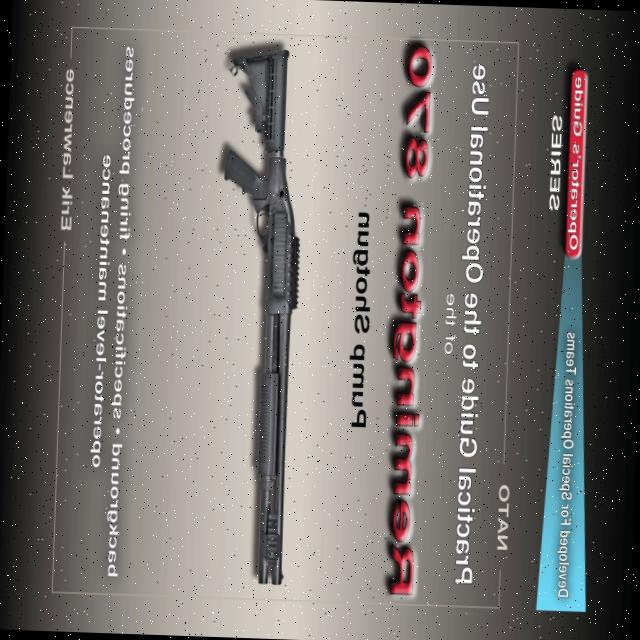Shotgun: (195, 44, 306, 586)
